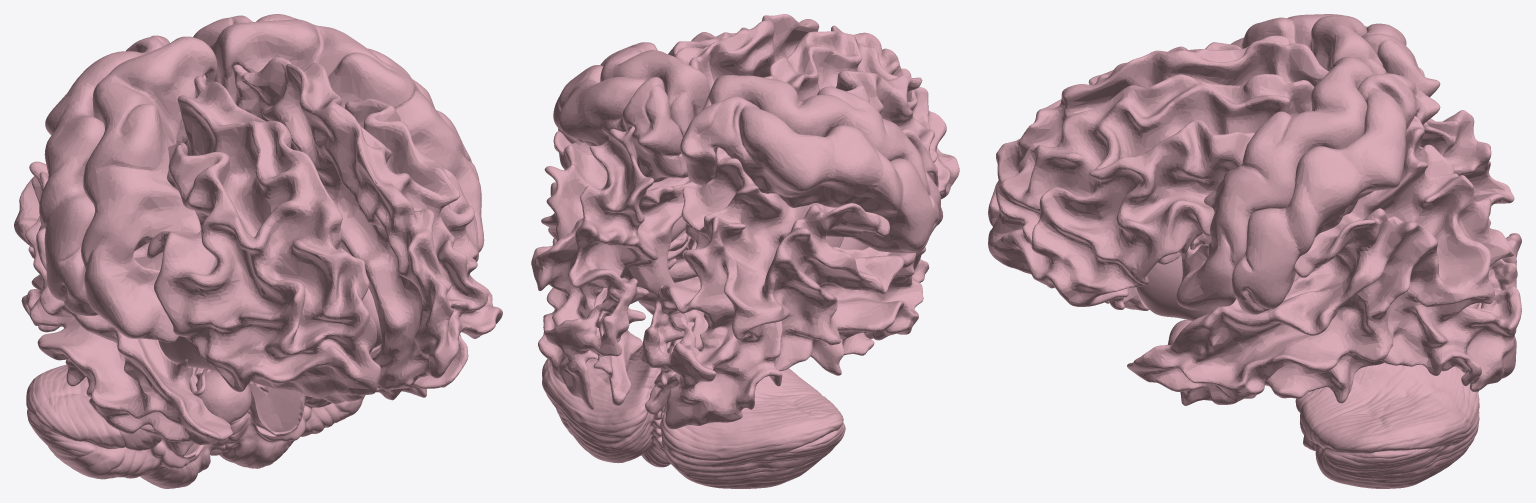
File: brain.glb
The picture shows the model from 3 angles, left to right: view 1: azimuth 30°, elevation 25°; view 2: azimuth 150°, elevation 25°; view 3: azimuth 270°, elevation 25°; orthographic projection. The views are drawn at different scales.
Parts seen in each view (by area): view 1: WhiteMatter_CerebralHemispheres, PrecentralGyrus_R, Cerebellum, PrecentralGyrus_L, PostcentralGyrus_R, Amygdala_R, PostcentralGyrus_L, Putamen_R; view 2: WhiteMatter_CerebralHemispheres, Cerebellum, PostcentralGyrus_R, PostcentralGyrus_L, PrecentralGyrus_R, PrecentralGyrus_L, Hippocampus_L; view 3: WhiteMatter_CerebralHemispheres, Cerebellum, PostcentralGyrus_L, PrecentralGyrus_L, PrecentralGyrus_R, PostcentralGyrus_R, Putamen_L.
Part boxes in pixels (box(x1,y1,x2,y2)): WhiteMatter_CerebralHemispheres: box(14, 57, 502, 456); PrecentralGyrus_R: box(81, 36, 217, 342); Cerebellum: box(26, 364, 364, 488); PrecentralGyrus_L: box(210, 19, 484, 252); PostcentralGyrus_R: box(39, 35, 169, 315); Amygdala_R: box(196, 372, 251, 423); PostcentralGyrus_L: box(193, 14, 479, 180); Putamen_R: box(158, 336, 217, 371); WhiteMatter_CerebralHemispheres: box(531, 14, 959, 429); Cerebellum: box(542, 338, 845, 488); PostcentralGyrus_R: box(680, 96, 939, 253); PostcentralGyrus_L: box(553, 65, 683, 178); PrecentralGyrus_R: box(702, 75, 942, 225); PrecentralGyrus_L: box(600, 42, 709, 182); Hippocampus_L: box(667, 258, 697, 282); WhiteMatter_CerebralHemispheres: box(988, 35, 1521, 405); Cerebellum: box(1295, 362, 1479, 488); PostcentralGyrus_L: box(1232, 73, 1440, 314); PrecentralGyrus_L: box(1176, 56, 1373, 310); PrecentralGyrus_R: box(1230, 14, 1386, 74); PostcentralGyrus_R: box(1361, 23, 1440, 97); Putamen_L: box(1136, 255, 1216, 321).
Bounding box in the file's own units: 128 × 132 × 154.
